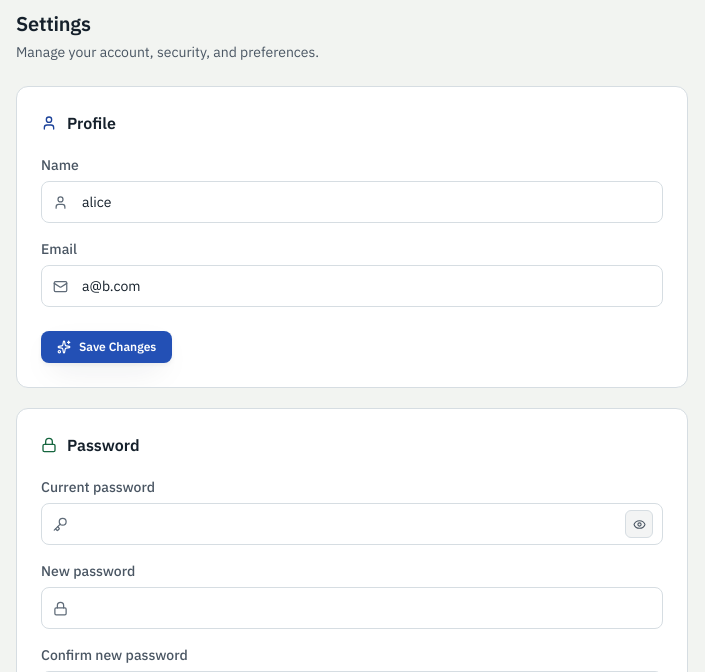
Test: SettingsPage — password visibility toggle (BUG-56) › has an accessible name that flips with its state
The width and height of the screenshot is (705, 672).
Click the button named "Show passwords": (639, 524) [625,510,653,538]
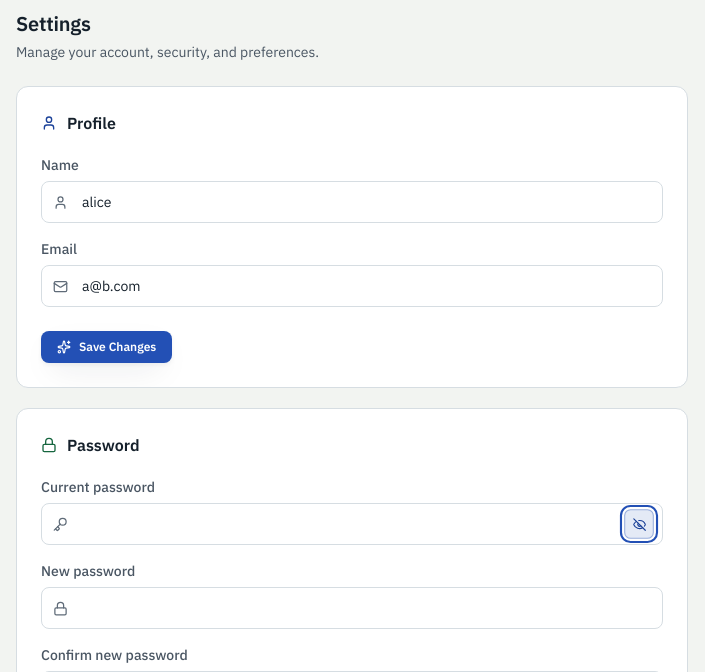
expect the button named "Hide passwords" is shown: met, box [624,509,654,539]
